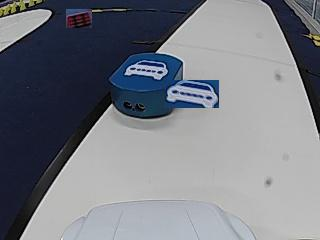safety: (125, 59, 169, 80)
